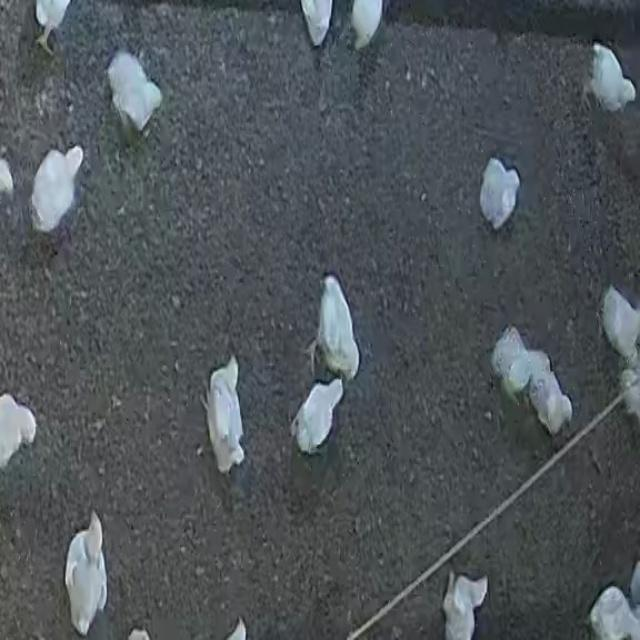chicken: (64, 508, 108, 634), (201, 358, 244, 473), (315, 275, 359, 382), (35, 142, 86, 234), (291, 377, 346, 455), (108, 53, 157, 133), (485, 323, 533, 400), (592, 44, 638, 112), (537, 355, 574, 439), (442, 572, 488, 639), (601, 286, 640, 362), (479, 158, 520, 230), (1, 395, 38, 473), (588, 586, 638, 640), (34, 1, 75, 54), (352, 0, 380, 51), (297, 0, 330, 41)
